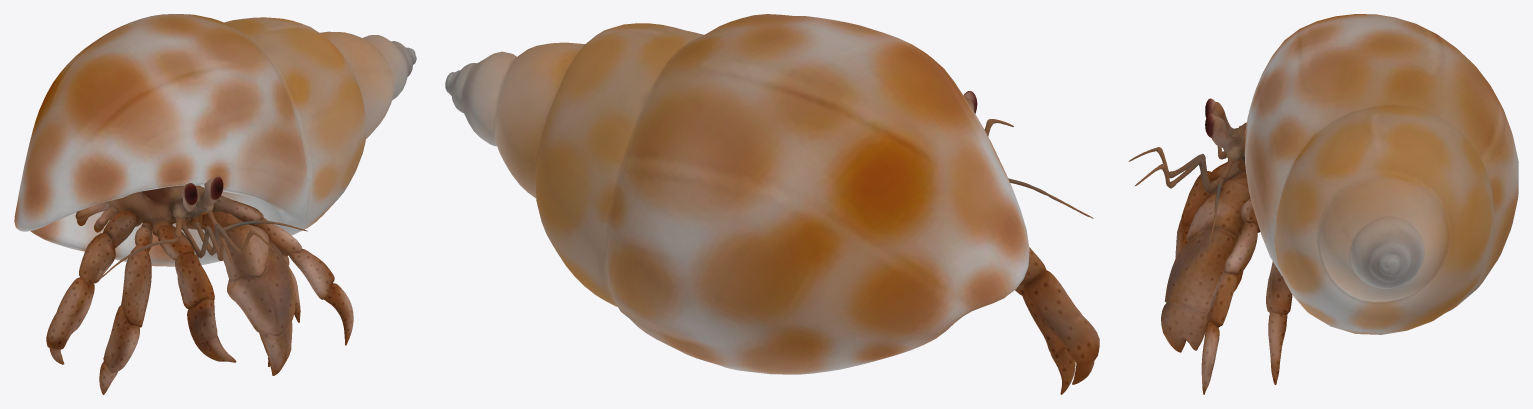
File: crab.glb
3 views of the same model, side by side, from view 1: azimuth 30°, elevation 25°; view 2: azimuth 150°, elevation 25°; view 3: azimuth 270°, elevation 25° (orthographic). The views are drawn at different scales.
Parts seen in each view (by area): view 1: hermit_crab.2; view 2: hermit_crab.2; view 3: hermit_crab.2.
Part boxes in pixels (x1=…): hermit_crab.2: x1=14, y1=14, x2=416, y2=394; hermit_crab.2: x1=445, y1=14, x2=1099, y2=394; hermit_crab.2: x1=1128, y1=14, x2=1518, y2=394.
Bounding box in the file's own units: 0.1753 × 0.1117 × 0.128.
Materials: 1 (1 with a texture image).
